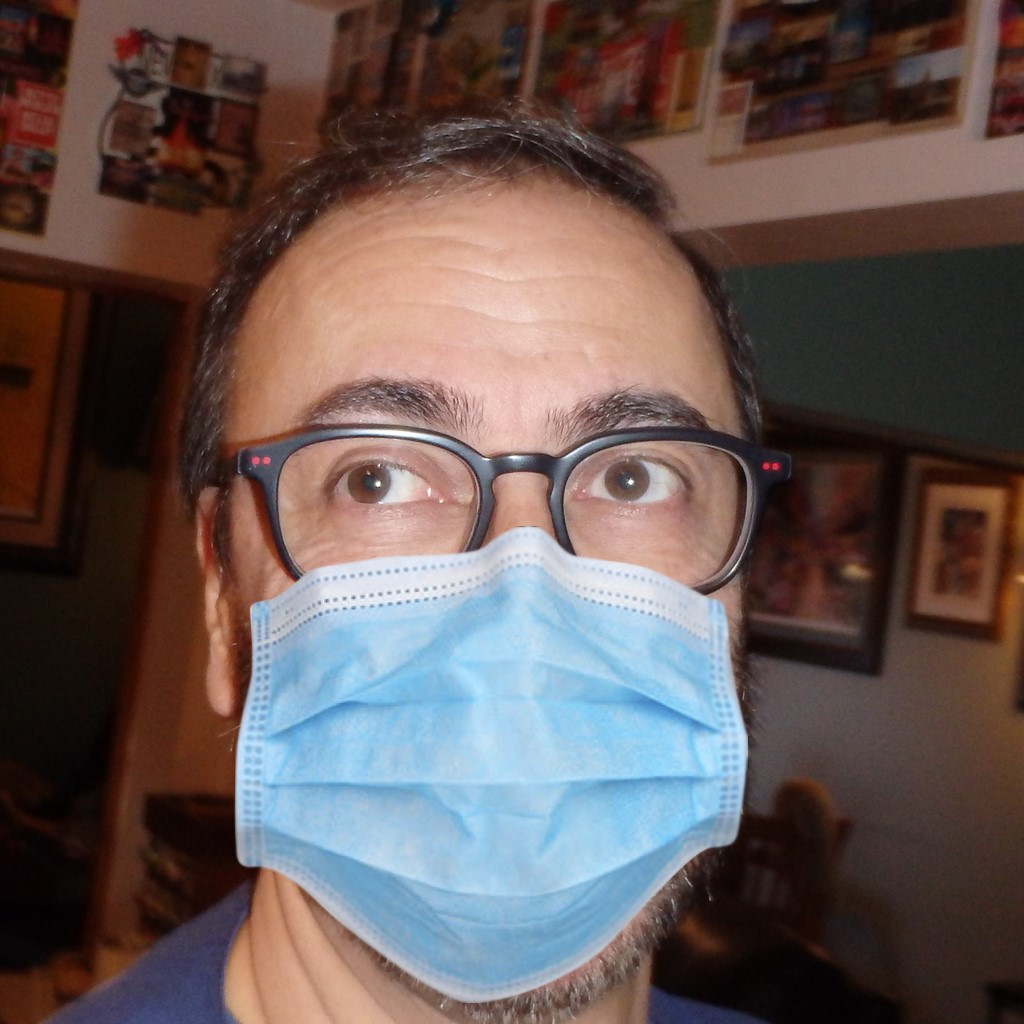con_mascara: (204, 142, 746, 985)
